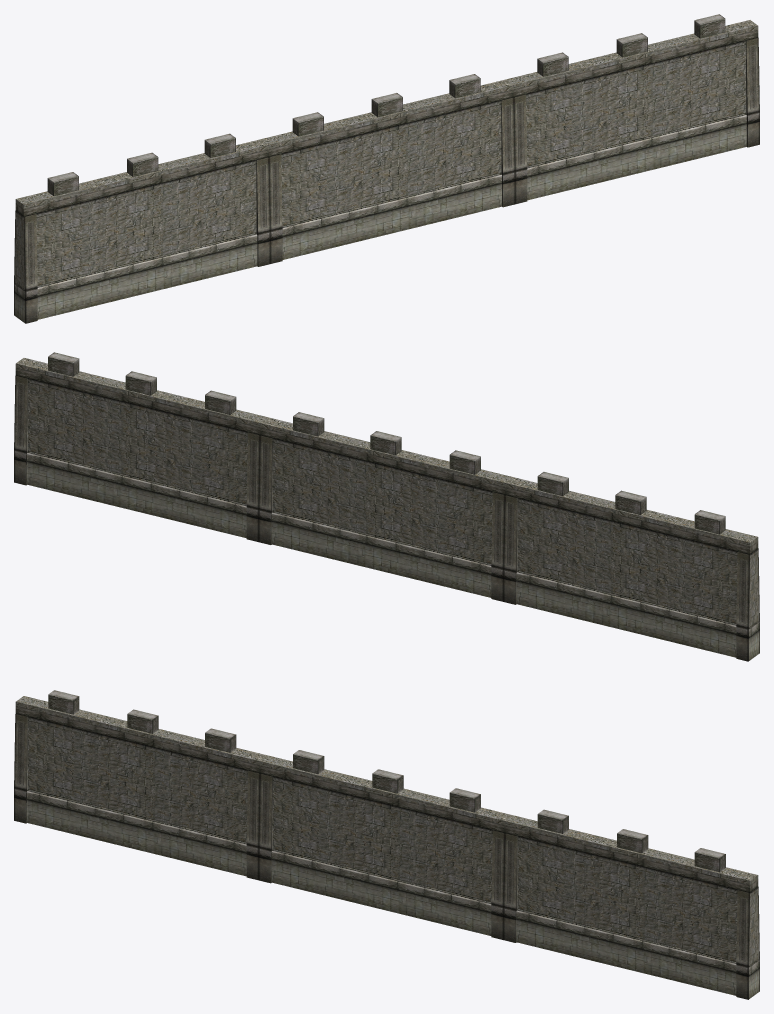
File: ob-bigdam-04.glb
The picture shows the model from 3 angles, top to bottom: view 1: azimuth 30°, elevation 25°; view 2: azimuth 150°, elevation 25°; view 3: azimuth 330°, elevation 25°; orthographic projection.
Visible parts, largest first — view 1: ob-bigdam-01; view 2: ob-bigdam-01; view 3: ob-bigdam-01.
Part boxes in pixels (box(x1,y1,x2,y2)): ob-bigdam-01: box(14, 14, 759, 323); ob-bigdam-01: box(14, 352, 759, 661); ob-bigdam-01: box(14, 690, 759, 999).
Bounding box in the file's own units: 30.02 × 5.14 × 0.8224.
1 material, 1 textured.
